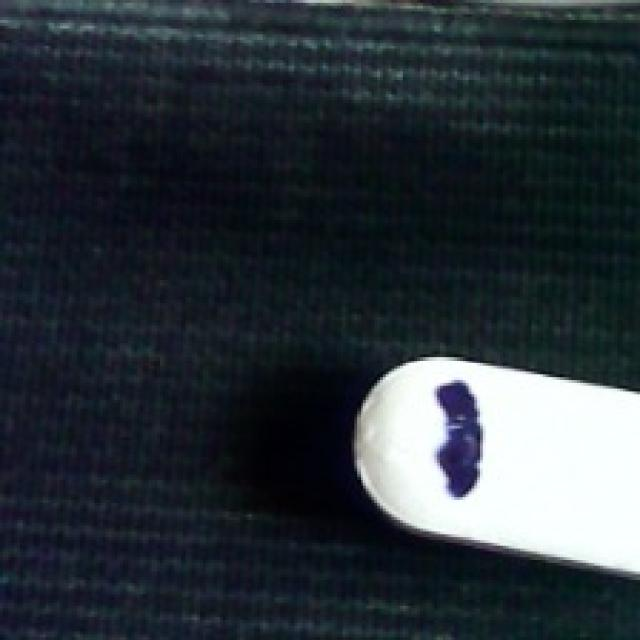defected: (343, 348, 637, 568)
